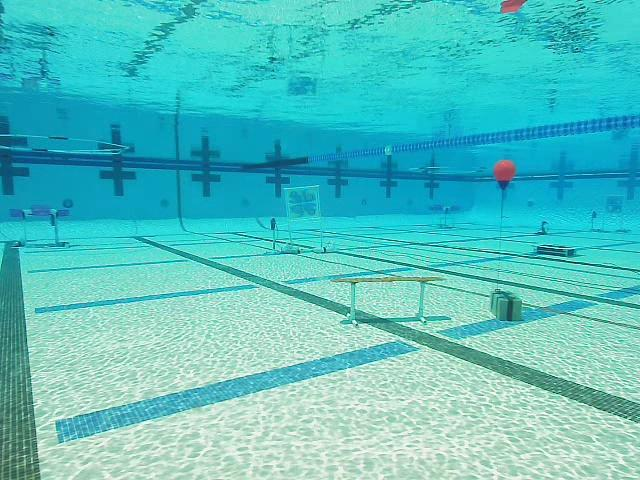buoy: (493, 160, 515, 191)
table: (10, 208, 70, 249)
torpedo: (285, 184, 321, 221)
